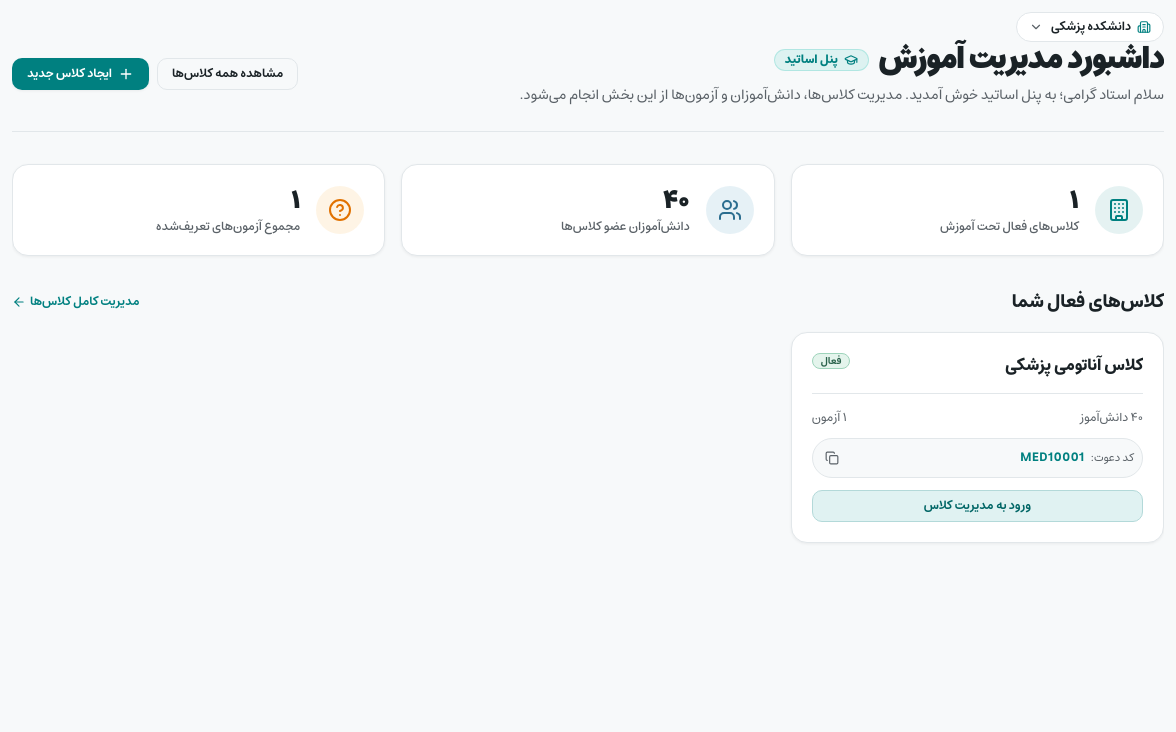
Test: Teacher Platform - Dashboard Regression & Organization Scope Suite › Case 2: platform_admin with multiple organizations switches tenant cleanly with cache isolation
Expected: the heading "کلاس آناتومی پزشکی" is shown, [1005,353,1143,377]
Expected: the text "کلاس پروتز دندانی" is not shown
Note: Switch to org_dent via switcher
Click the button "دانشکده پزشکی": (1090, 27) [1016,12,1164,42]
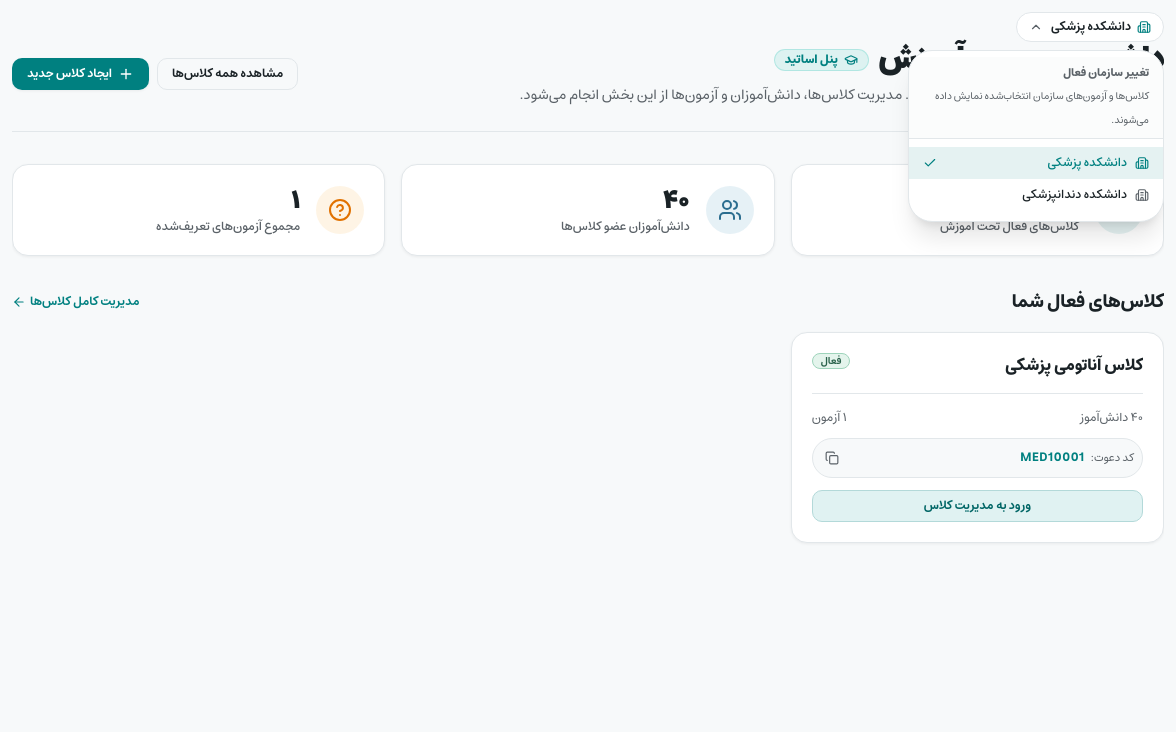
Click the option "دانشکده دندانپزشکی": (1036, 194) [909,178,1163,210]
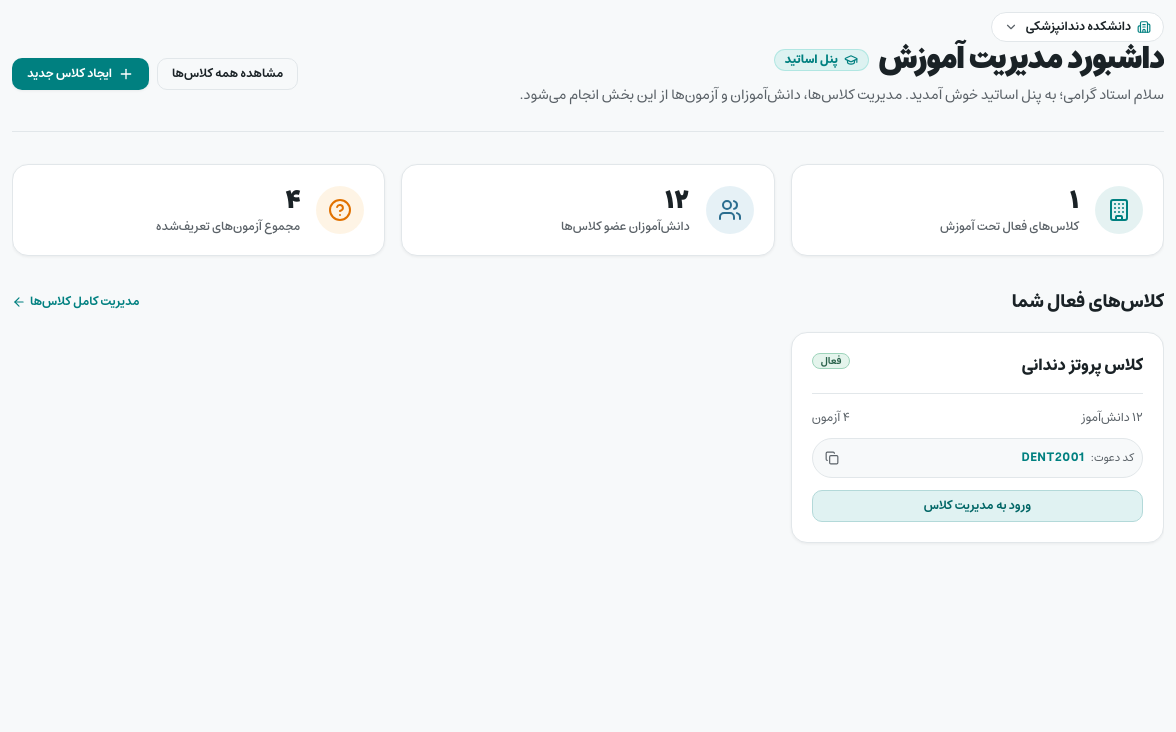
Expected: the heading "کلاس پروتز دندانی" is shown, [1022,353,1143,377]
Expected: the heading "کلاس آناتومی پزشکی" is gone
